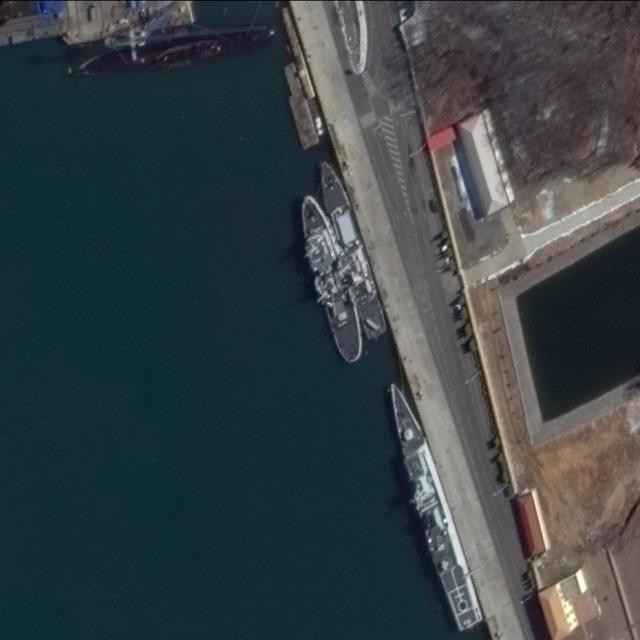Auxiliary Ships: (380, 374, 483, 632)
Other Warship: (314, 156, 389, 342), (292, 185, 368, 367)
Submarine: (57, 15, 284, 88)
